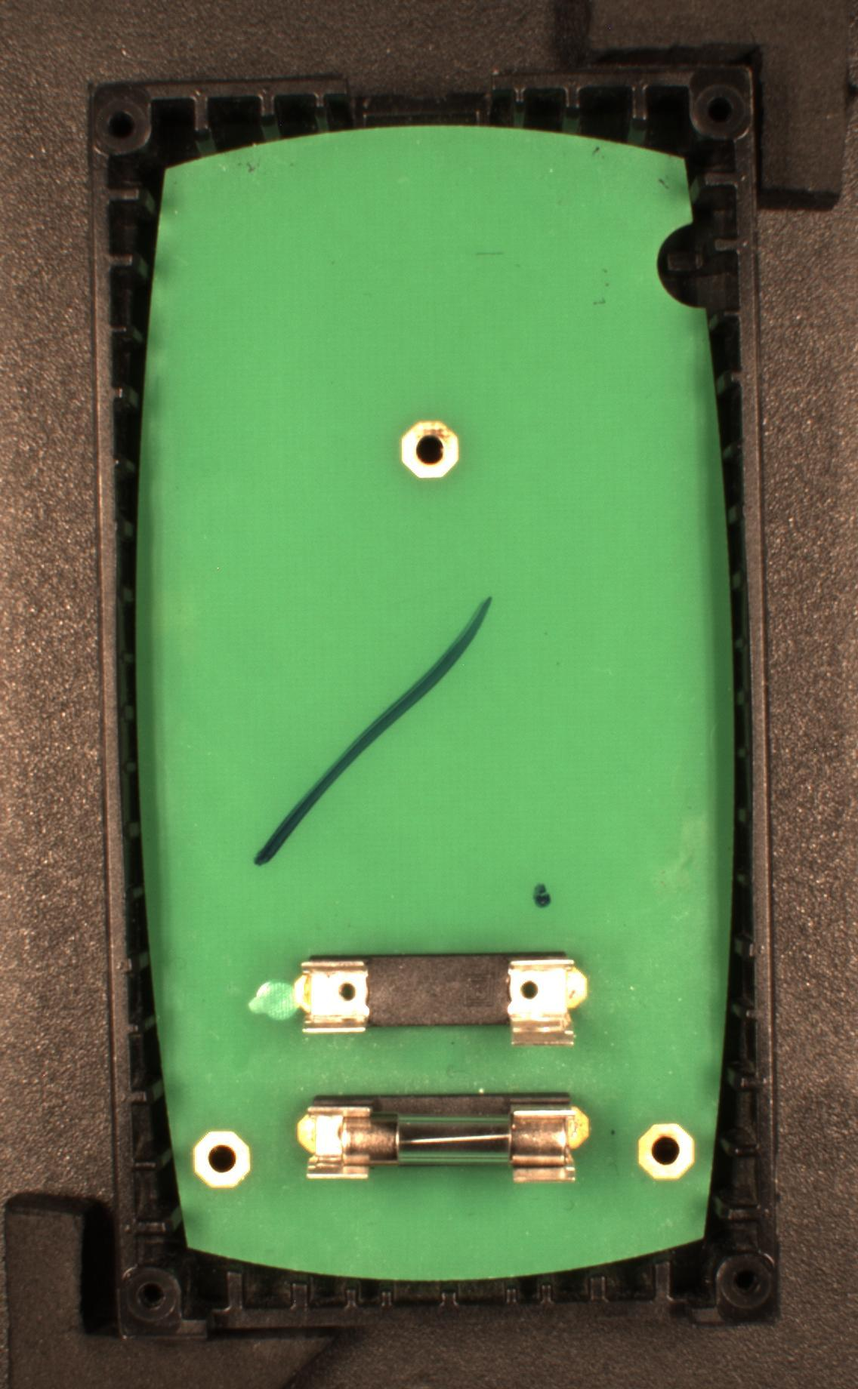Linijsko Ostecene: (250, 593, 495, 868)
Nepostojanje osiguraca: (291, 949, 587, 1047)
Tockasto Ostecenje: (532, 881, 553, 910)
